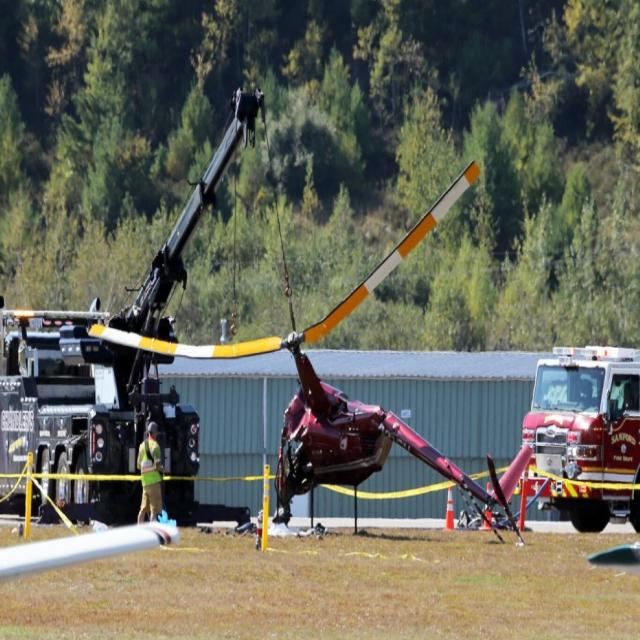helicopter: (247, 340, 554, 526)
